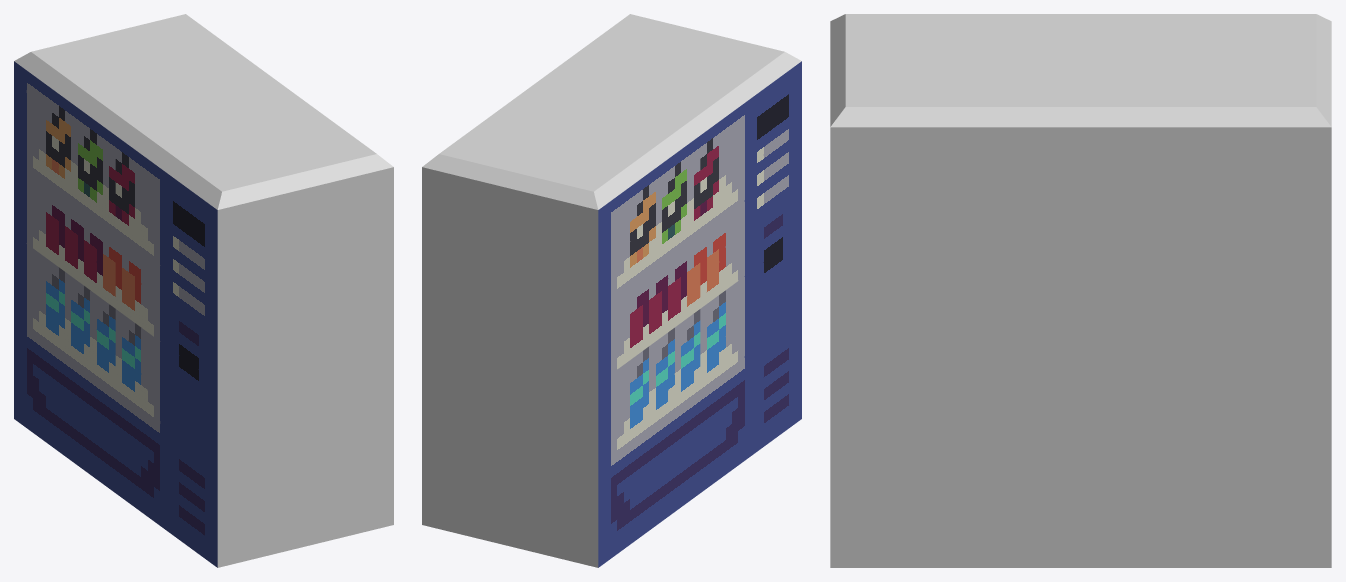
The model's file is Maquina Azul.fbx.
The picture shows the model from 3 angles, left to right: view 1: azimuth 30°, elevation 25°; view 2: azimuth 150°, elevation 25°; view 3: azimuth 270°, elevation 25°; orthographic projection. The views are drawn at different scales.
Parts seen in each view (by area): view 1: Back; view 2: Back; view 3: Back.
Boxes of the visible parts, x1=… form: Back: x1=14, y1=14, x2=393, y2=567; Back: x1=422, y1=14, x2=801, y2=567; Back: x1=830, y1=14, x2=1331, y2=567.
Bounding box in the file's own units: 50 × 100 × 100.
